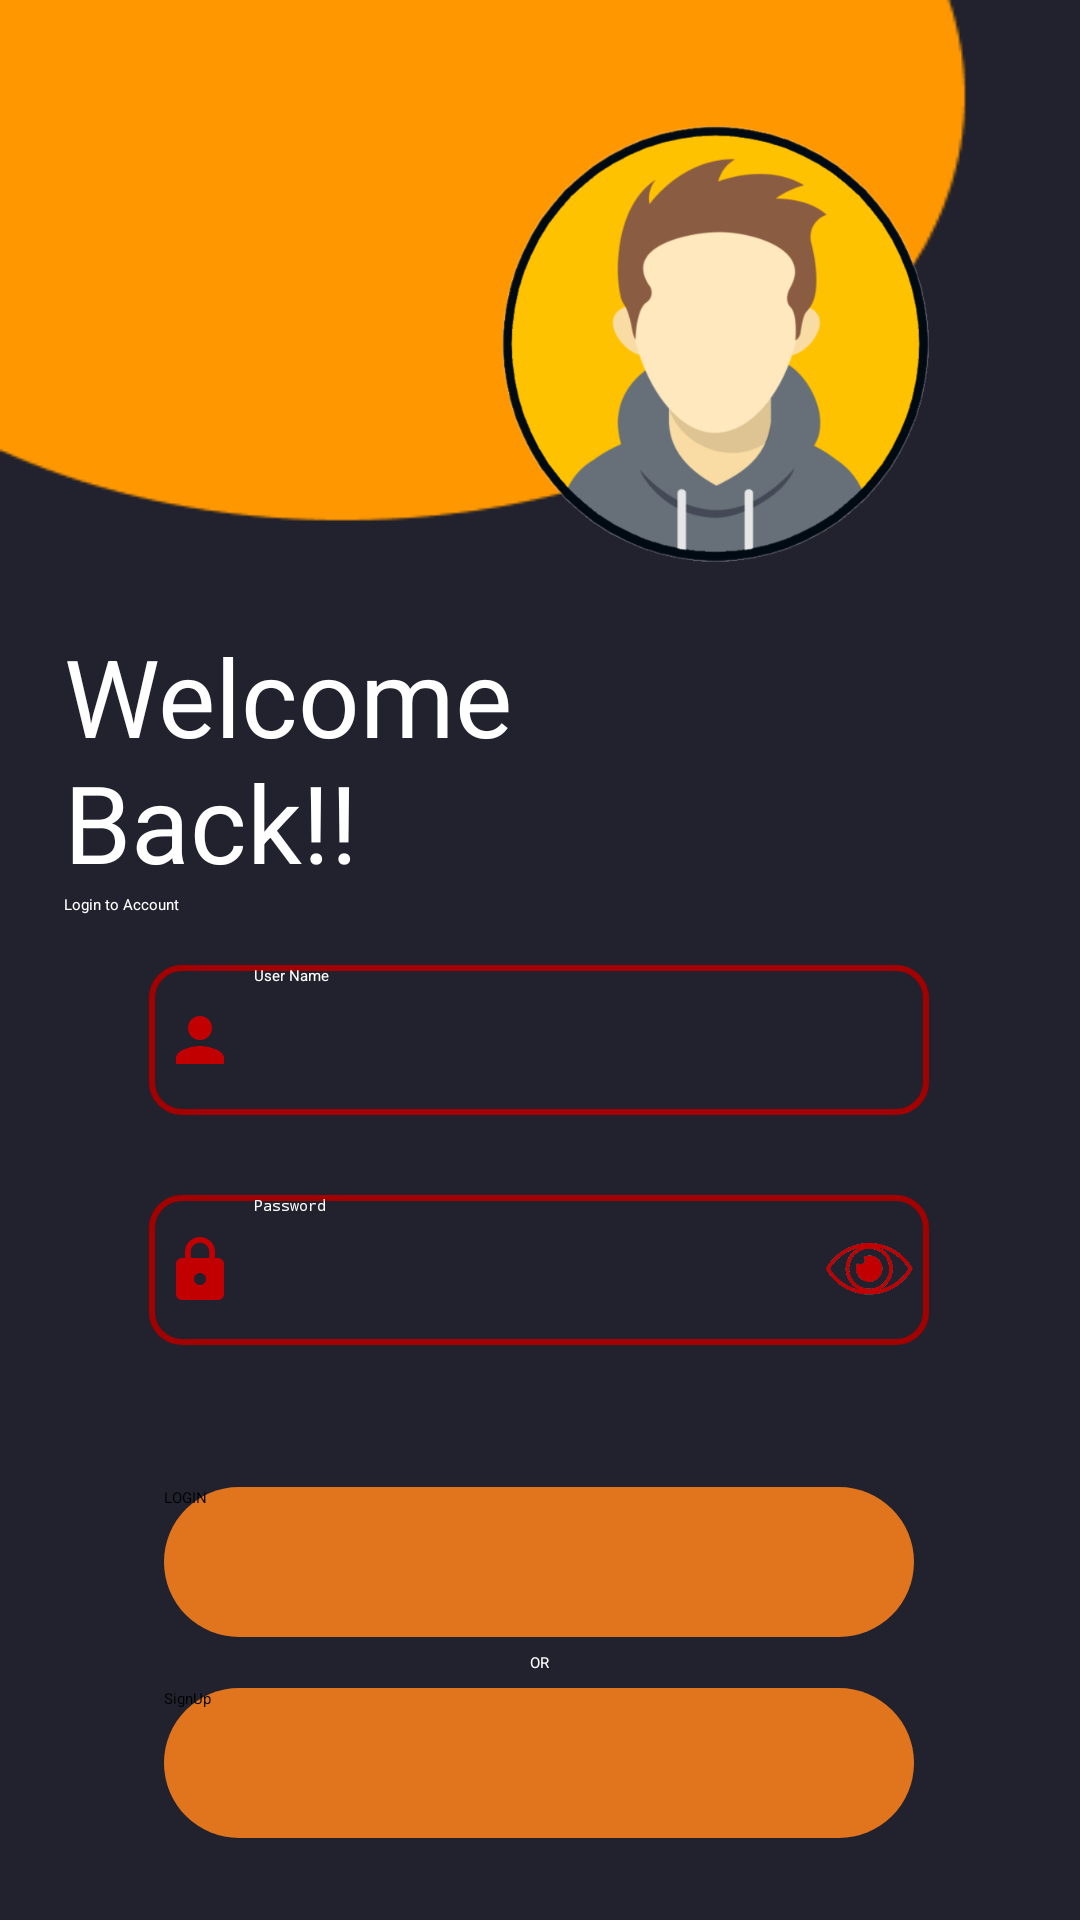

Named icons in this screenshot (1080 x 1920) and their bounding boxes, bbox=(x1, y1, x2, y2):
eye open: bbox=(826, 1243, 913, 1295)
lock: bbox=(176, 1237, 224, 1300)
person: bbox=(176, 1016, 224, 1064)
